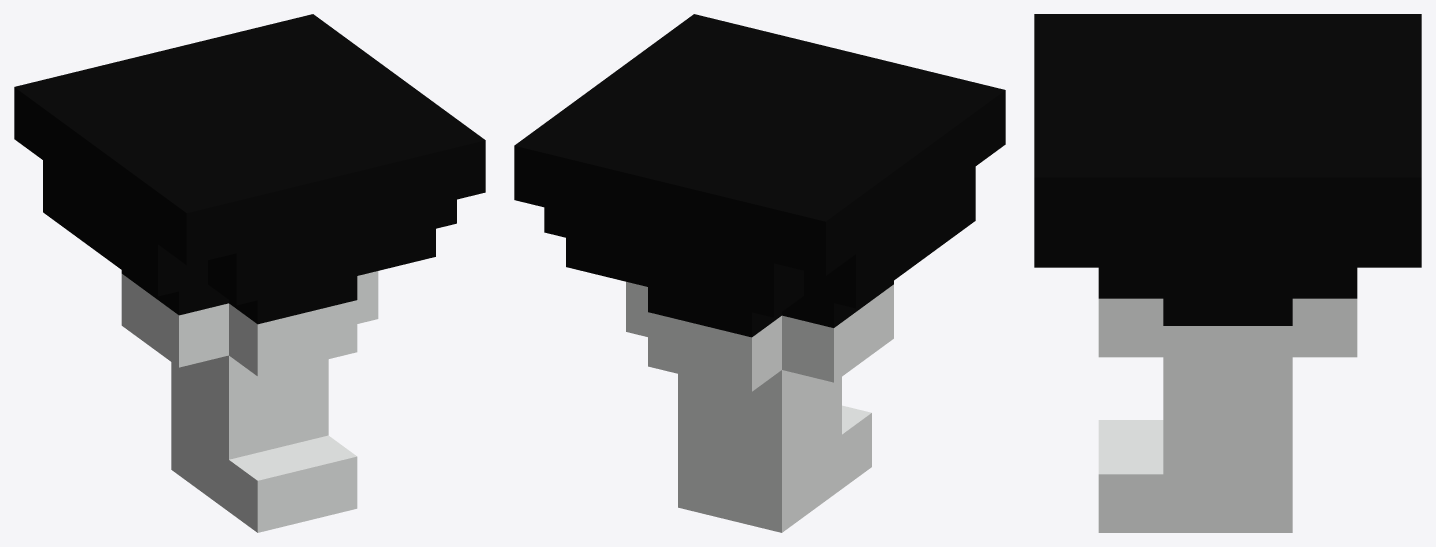
The model's file is pierna.obj.
The picture shows the model from 3 angles, left to right: view 1: azimuth 30°, elevation 25°; view 2: azimuth 150°, elevation 25°; view 3: azimuth 270°, elevation 25°; orthographic projection. The views are drawn at different scales.
Visible parts, largest first — view 1: pierna; view 2: pierna; view 3: pierna.
Boxes of the visible parts, <box> form: pierna: <box>14,14,485,532</box>; pierna: <box>514,14,1005,532</box>; pierna: <box>1034,14,1421,532</box>.
Size of the model in its own units: 0.6 by 0.7 by 0.6.
Materials: 1 (1 with a texture image).
